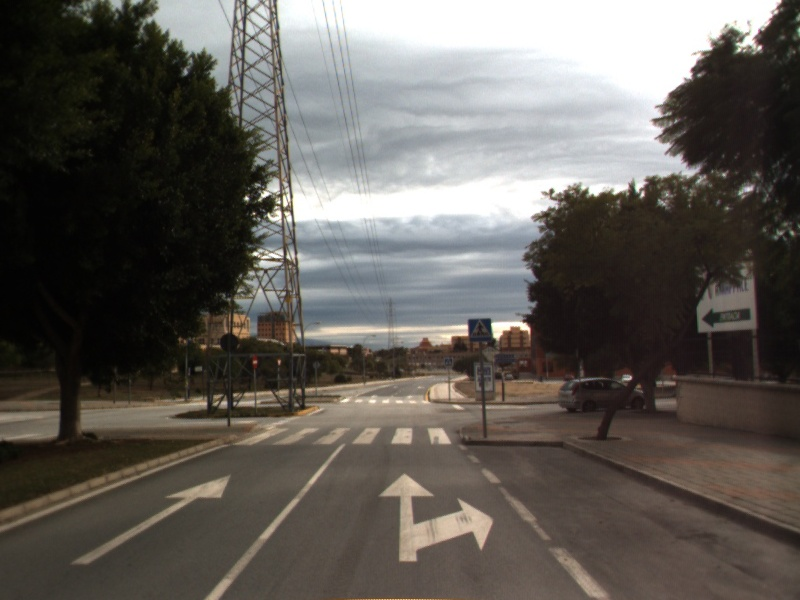STRAIGHT: (68, 472, 233, 567)
STRAIGHT_RIGHT: (376, 470, 496, 564)
